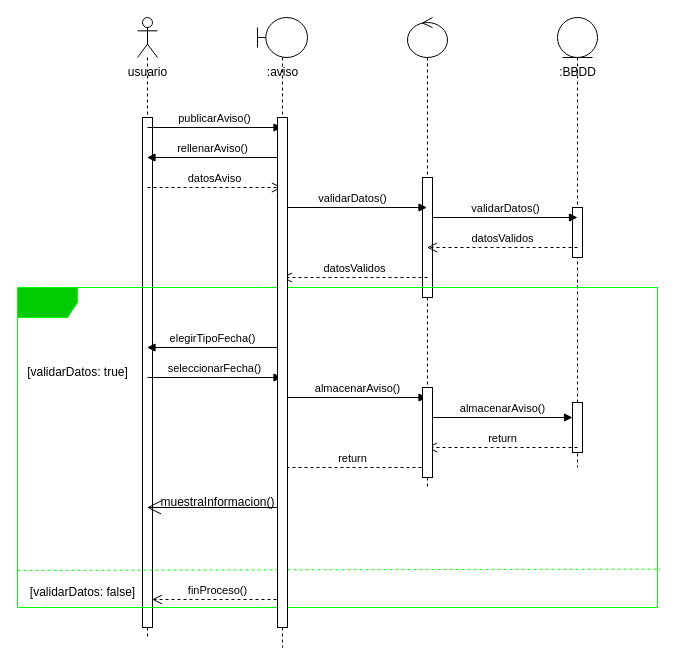
The diagram is 680 pixels wide and 665 high, and some of its shapes have lost their labels. Here are the shapes that lost their labels. From the top down, the box of each, then its label:
(406, 16, 448, 488): :gestorAvisos
(16, 286, 658, 608): alt
